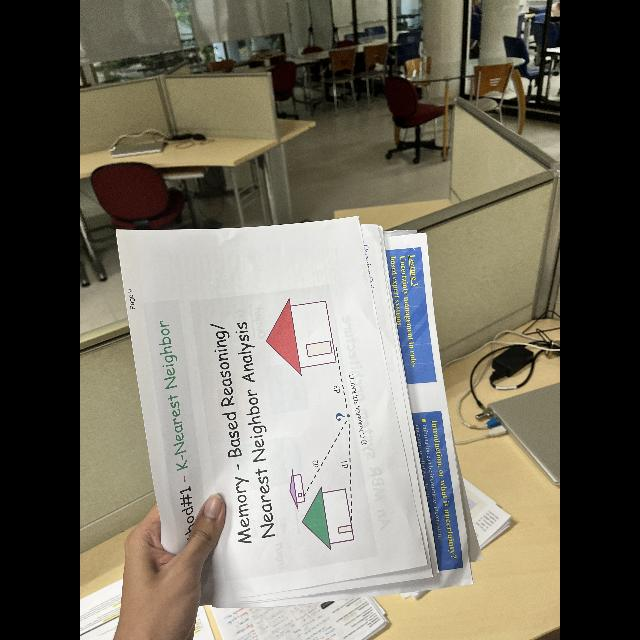reuseable_paper: (100, 210, 486, 612)
